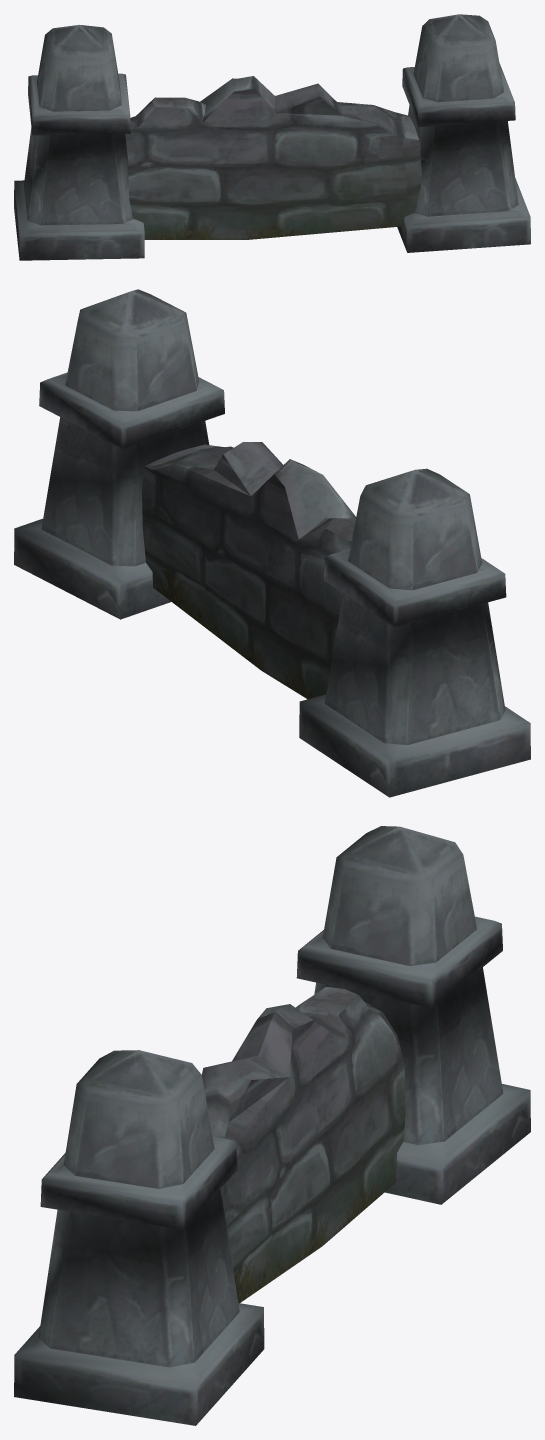
Rendered from object_stonewalls05.fbx.
3 renders of one model, top to bottom at view 1: azimuth 30°, elevation 25°; view 2: azimuth 150°, elevation 25°; view 3: azimuth 270°, elevation 25°, orthographic. The views are drawn at different scales.
Visible parts, largest first — view 1: object_stonewalls05-0; view 2: object_stonewalls05-0; view 3: object_stonewalls05-0.
Boxes of the visible parts, left/top/right/bottom form: object_stonewalls05-0: left=14, top=14, right=530, bottom=260; object_stonewalls05-0: left=14, top=289, right=530, bottom=797; object_stonewalls05-0: left=14, top=826, right=530, bottom=1425.
Bounding box in the file's own units: 4.85 × 2.2 × 3.19.
